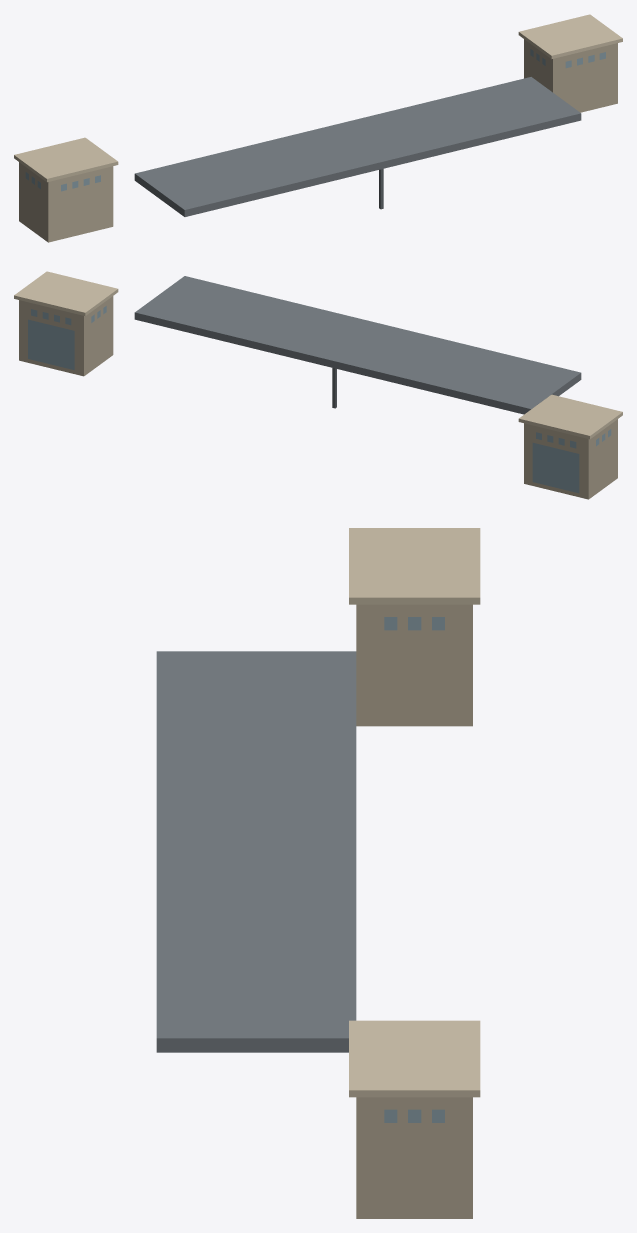
The picture shows the model from 3 angles, top to bottom: view 1: azimuth 30°, elevation 25°; view 2: azimuth 150°, elevation 25°; view 3: azimuth 270°, elevation 25°; orthographic projection. The views are drawn at different scales.
Parts seen in each view (by area): view 1: penn-station-lod2; view 2: penn-station-lod2; view 3: penn-station-lod2.
Boxes of the visible parts, <box> form: penn-station-lod2: <box>14,14,622,242</box>; penn-station-lod2: <box>14,271,622,499</box>; penn-station-lod2: <box>156,528,480,1218</box>.
Bounding box in the file's own units: 176 × 19.18 × 42.79.
